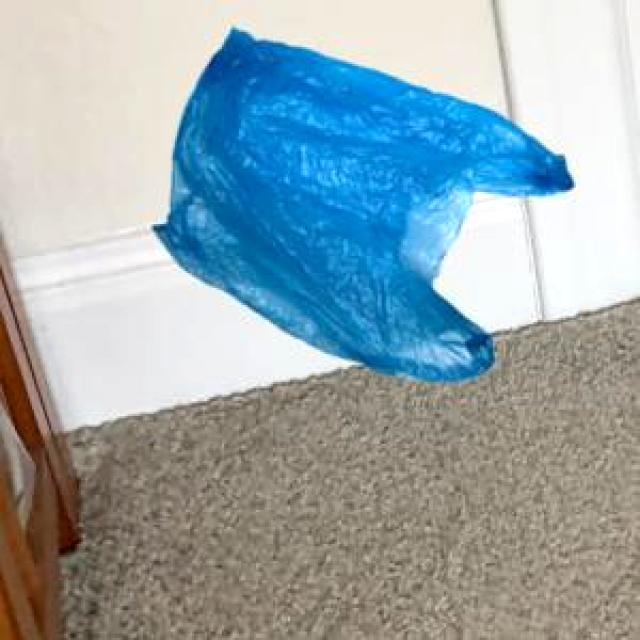Plastic_Bag: (150, 24, 571, 378)
